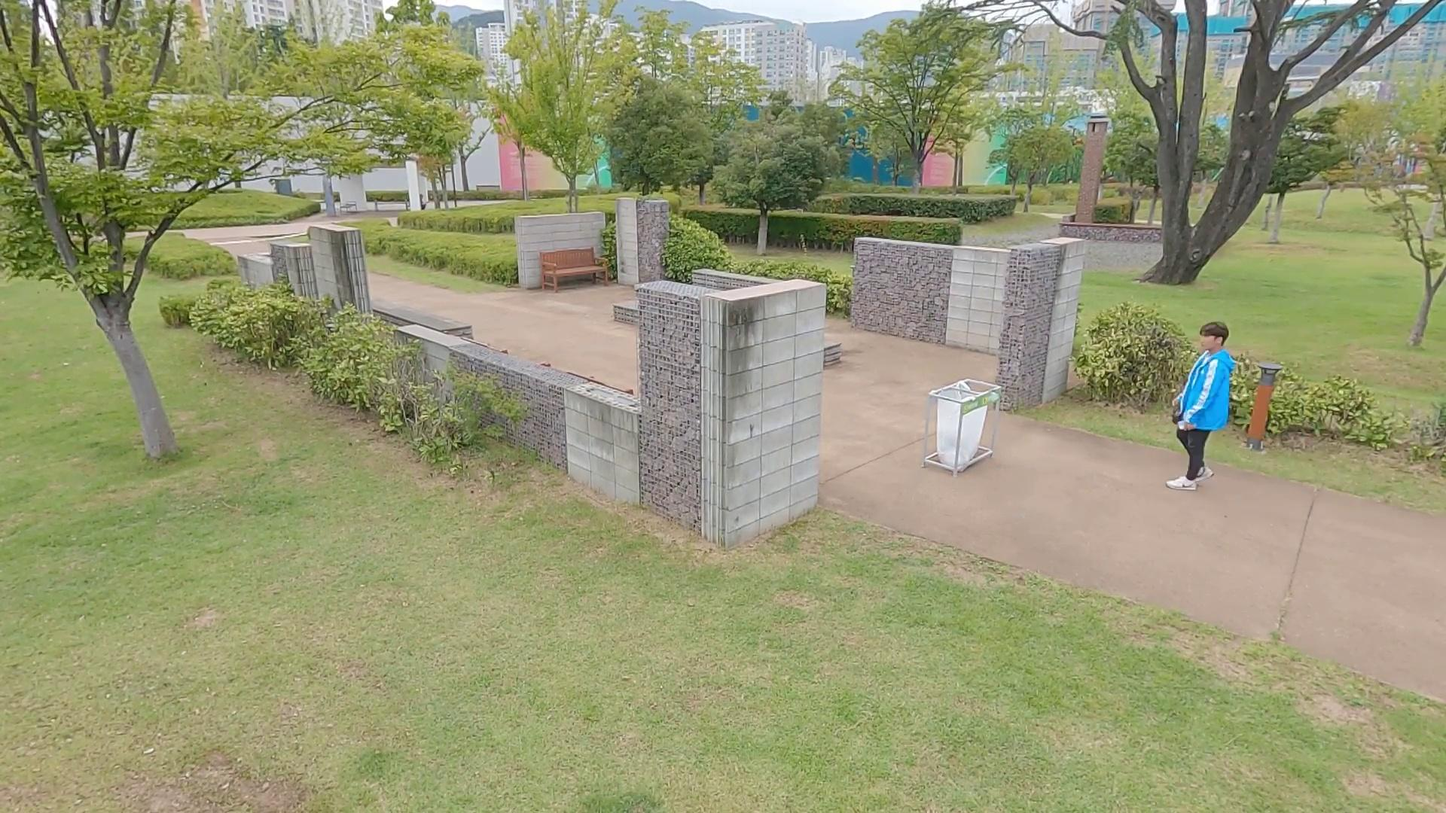person: (1170, 312, 1239, 494)
